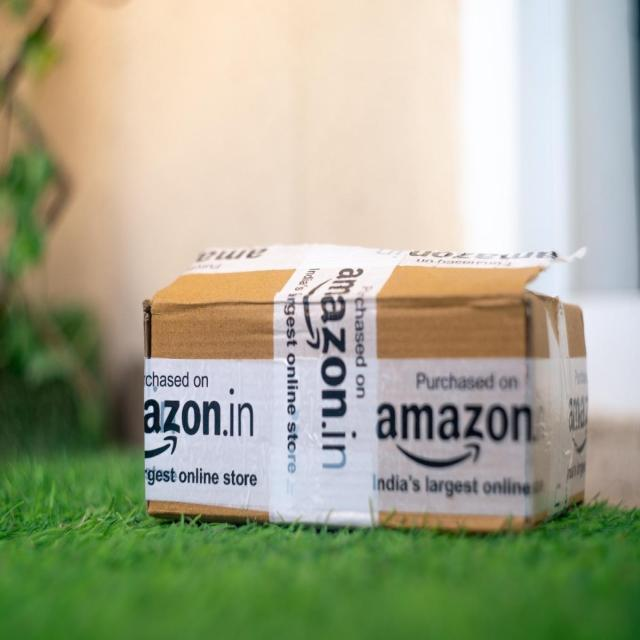box: (144, 244, 587, 530)
